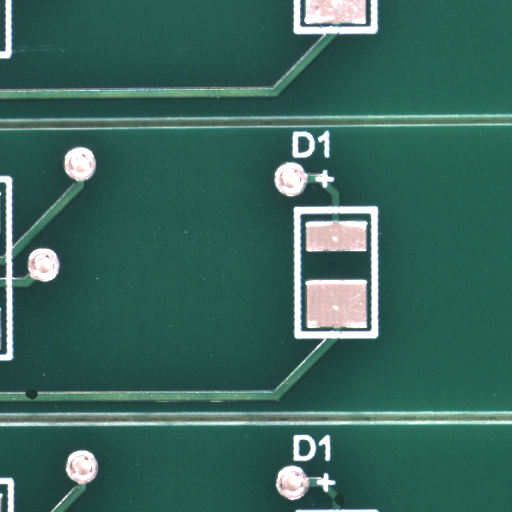Mouse_bite: (339, 499, 349, 512), (30, 394, 42, 403)
